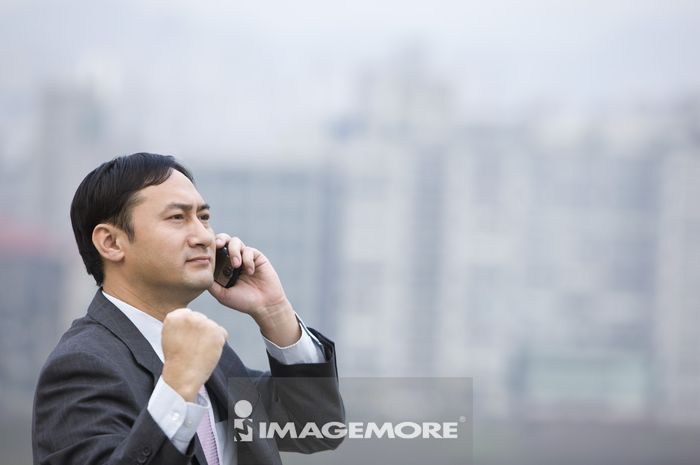talk: (155, 196, 279, 317)
